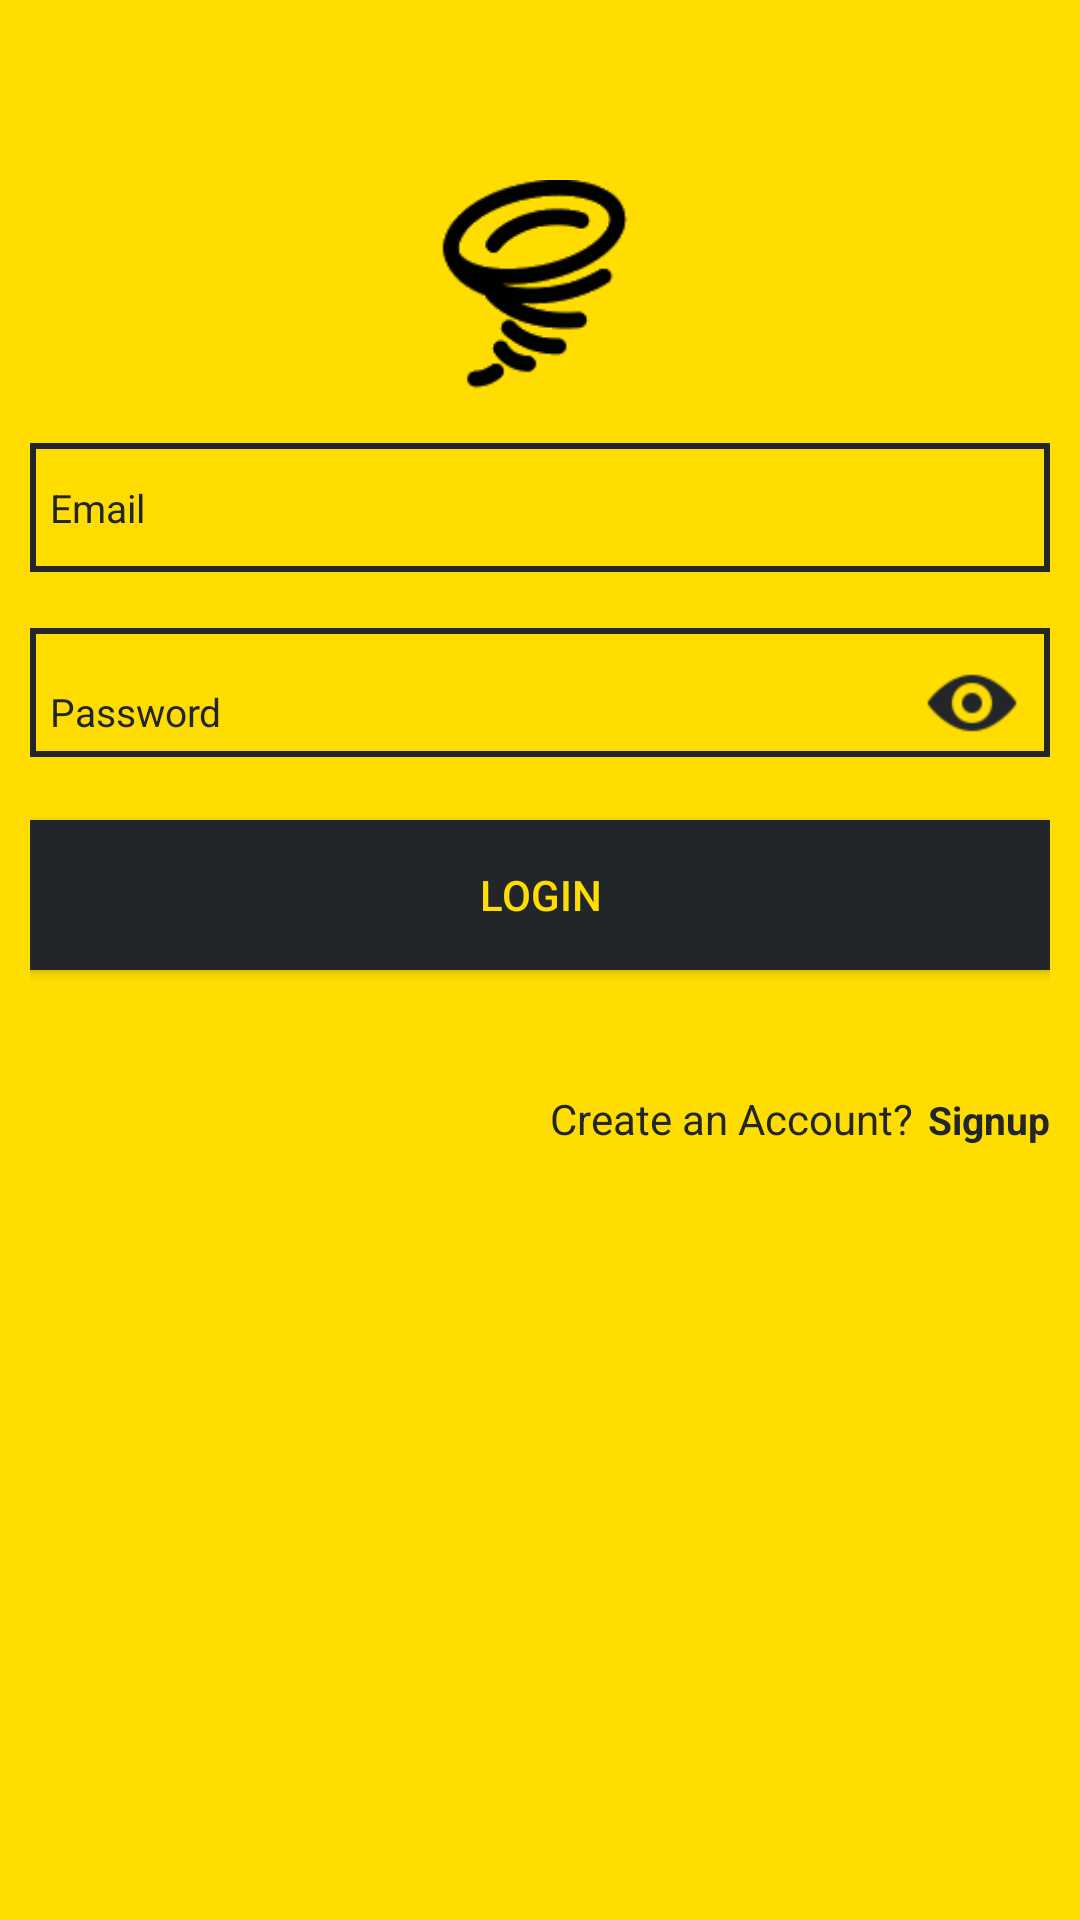

Screen size 1080×1920. Icon name, then its box in pixels as (x1, y1, x2, y2):
show: (927, 674, 1017, 732)
